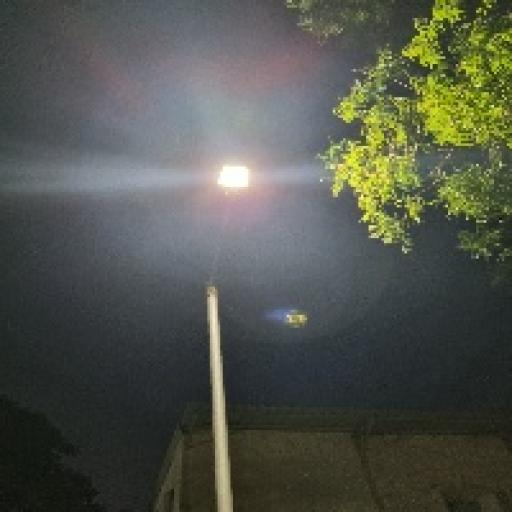Working: (208, 156, 260, 207)
